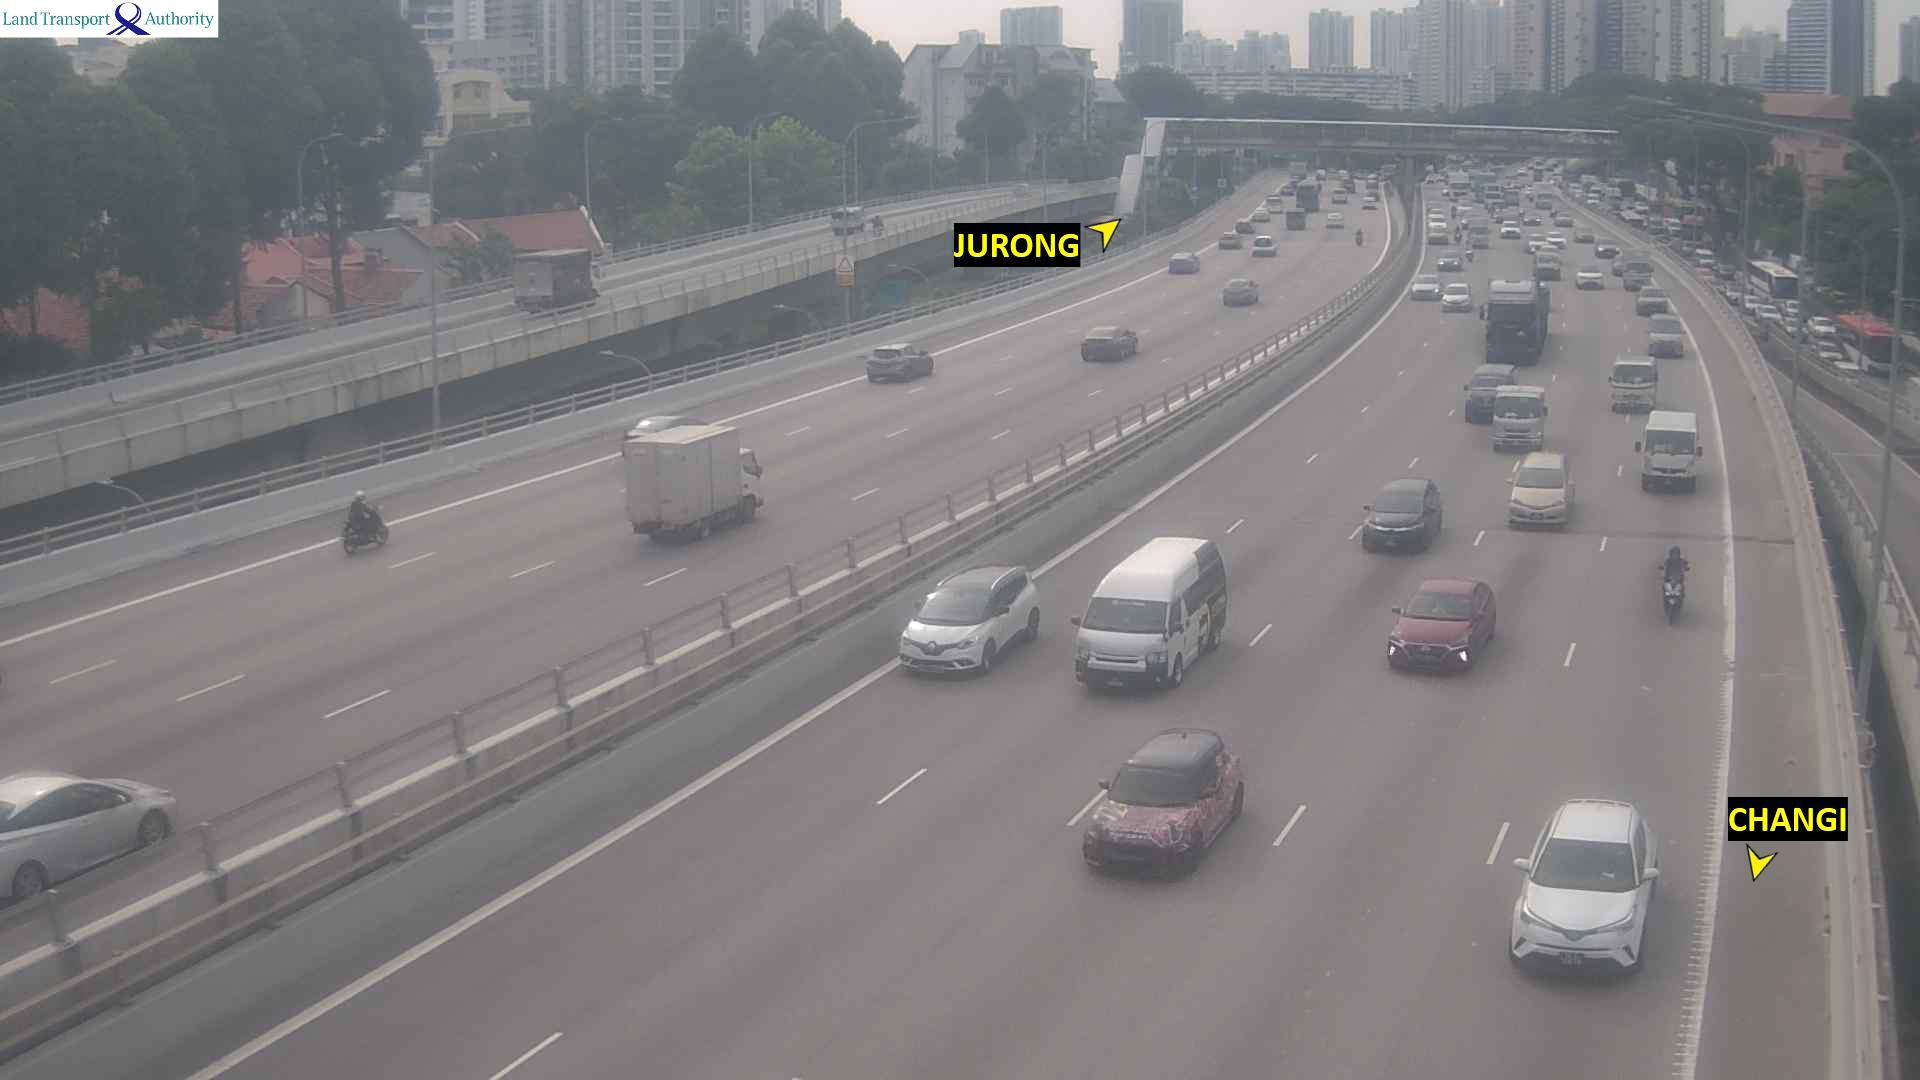incoming: (1509, 831, 1664, 980), (1077, 757, 1226, 885), (1059, 587, 1192, 703), (891, 579, 1019, 682), (1385, 583, 1489, 679), (1354, 483, 1440, 559), (1501, 459, 1578, 538), (1477, 295, 1545, 369), (1633, 427, 1705, 496), (1648, 553, 1698, 640), (1486, 394, 1549, 455), (1606, 360, 1662, 417), (1464, 371, 1514, 429), (1643, 318, 1689, 361), (1633, 286, 1672, 316), (1621, 260, 1658, 291), (1441, 284, 1473, 313), (1575, 264, 1607, 291), (1410, 274, 1440, 302), (1532, 255, 1564, 281), (1425, 222, 1451, 247), (1466, 225, 1493, 249), (1593, 237, 1622, 258), (1435, 252, 1464, 273), (1447, 179, 1472, 203), (1524, 232, 1548, 253), (1498, 220, 1523, 240), (1544, 231, 1569, 251), (1534, 191, 1556, 211), (1552, 211, 1577, 227), (1573, 227, 1596, 244), (1520, 210, 1543, 225), (1425, 206, 1448, 222), (1461, 245, 1476, 264), (1452, 228, 1464, 244)
